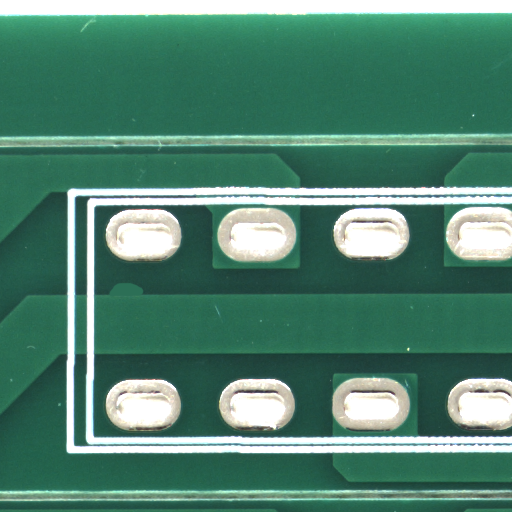Spur: (125, 288, 162, 301)
